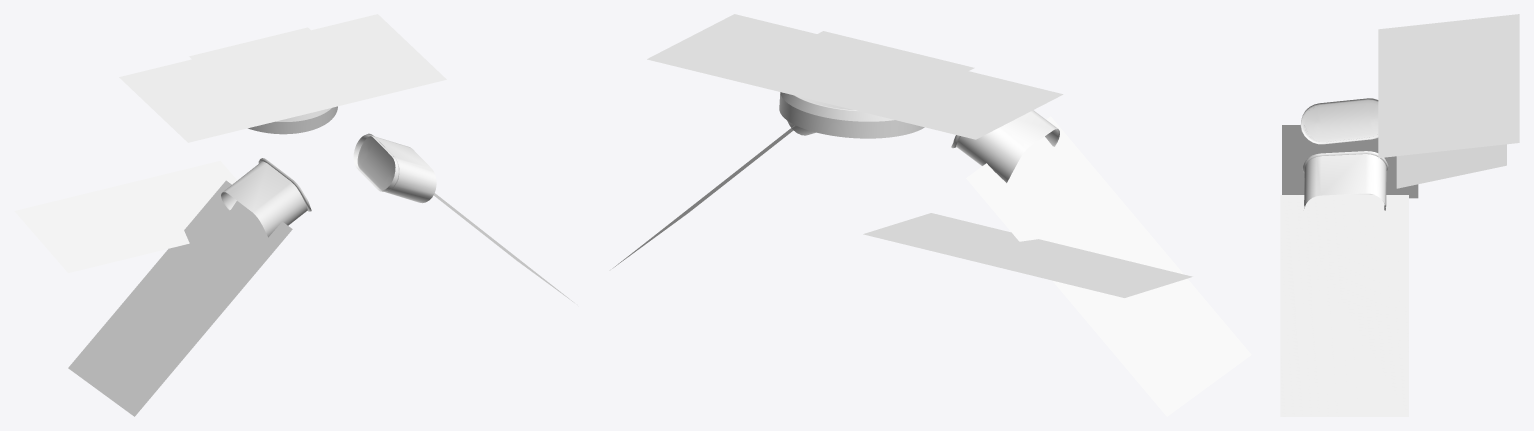
File: vive_tips.fbx
3 renders of one model, left to right at view 1: azimuth 30°, elevation 25°; view 2: azimuth 150°, elevation 25°; view 3: azimuth 270°, elevation 25°, orthographic. The views are drawn at different scales.
Visible parts, largest first — view 1: whole_model group1.002; view 2: whole_model group1.002; view 3: whole_model group1.002.
Boxes of the visible parts, bbox=[...] form: whole_model group1.002: bbox=[14, 14, 574, 416]; whole_model group1.002: bbox=[612, 14, 1251, 416]; whole_model group1.002: bbox=[1280, 14, 1519, 416].
Bounding box in the file's own units: 19.14 × 9.41 × 8.57.
Materials: 1 (1 with a texture image).
